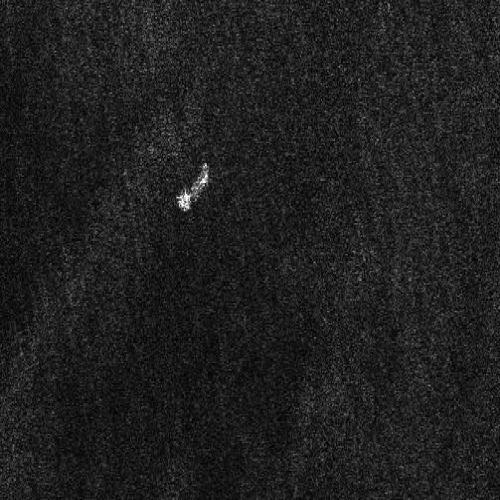ship: (177, 165, 210, 212)
